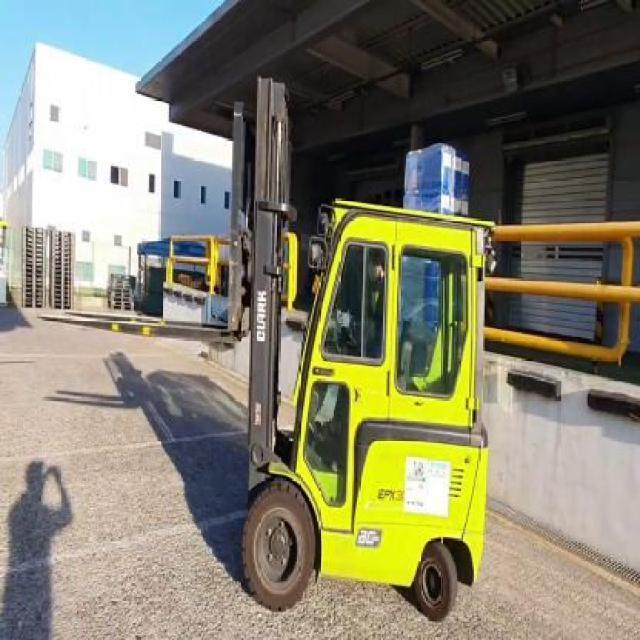forklift: (240, 203, 485, 617)
